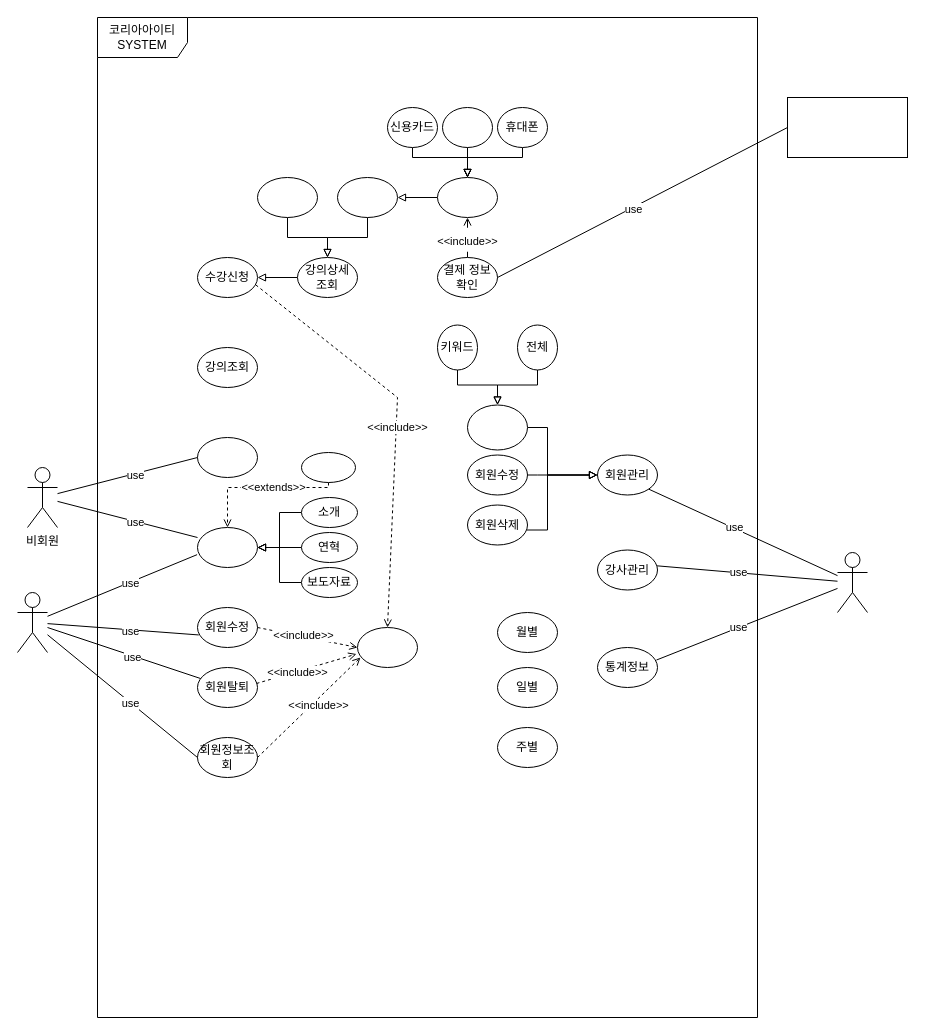
Image size: 925x1035. Some labels were removed from this diagram. Each missing label, with the box of its shape:
결제 요청: (336, 176, 398, 218)
결제방식: (436, 176, 498, 218)
결제시스템: (786, 96, 908, 158)
관리자: (836, 552, 868, 612)
로그인: (356, 626, 418, 668)
무통장: (442, 106, 492, 148)
수강료 조회: (300, 452, 356, 482)
장바구니: (256, 176, 318, 218)
학원소개: (196, 526, 258, 568)
회원: (16, 592, 48, 652)
회원가입: (196, 436, 258, 478)
회원조회: (466, 404, 528, 450)
